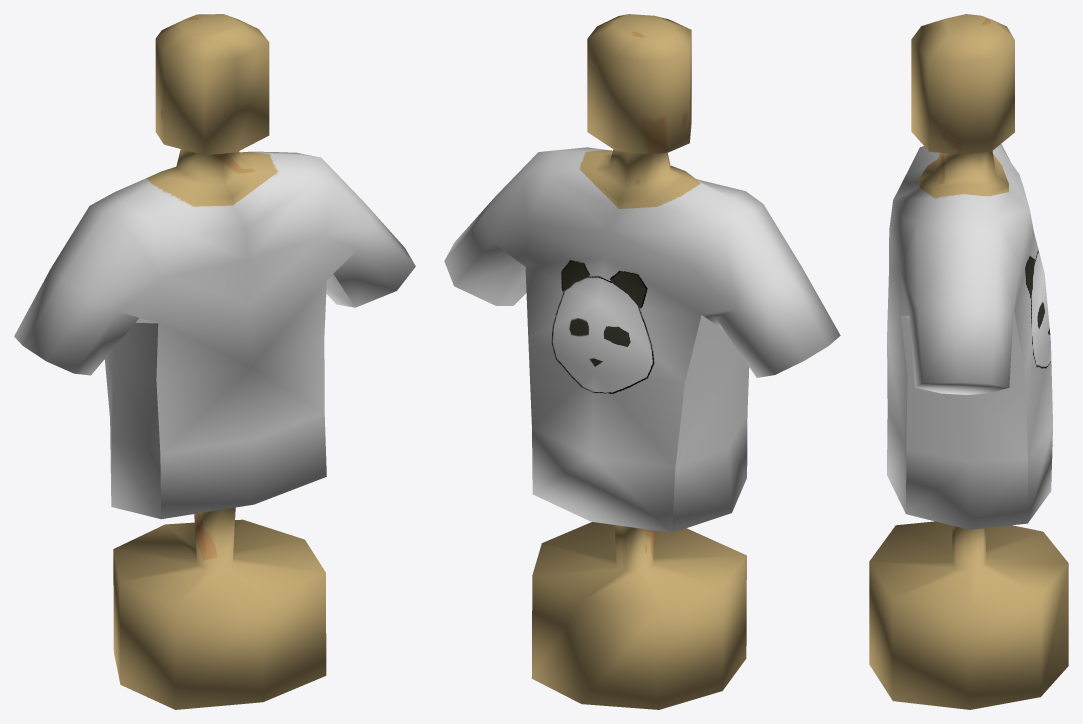
The model's file is Maneqin.fbx.
3 views of the same model, side by side, from view 1: azimuth 30°, elevation 25°; view 2: azimuth 150°, elevation 25°; view 3: azimuth 270°, elevation 25° (orthographic).
Parts seen in each view (by area): view 1: Manekin.001; view 2: Manekin.001; view 3: Manekin.001.
Part boxes in pixels (x1,y1,x2,y2): Manekin.001: [14, 14, 415, 709]; Manekin.001: [444, 14, 840, 709]; Manekin.001: [869, 14, 1068, 709].
Size of the model in its own units: 143 by 233 by 66.05.
Materials: 1 (1 with a texture image).
